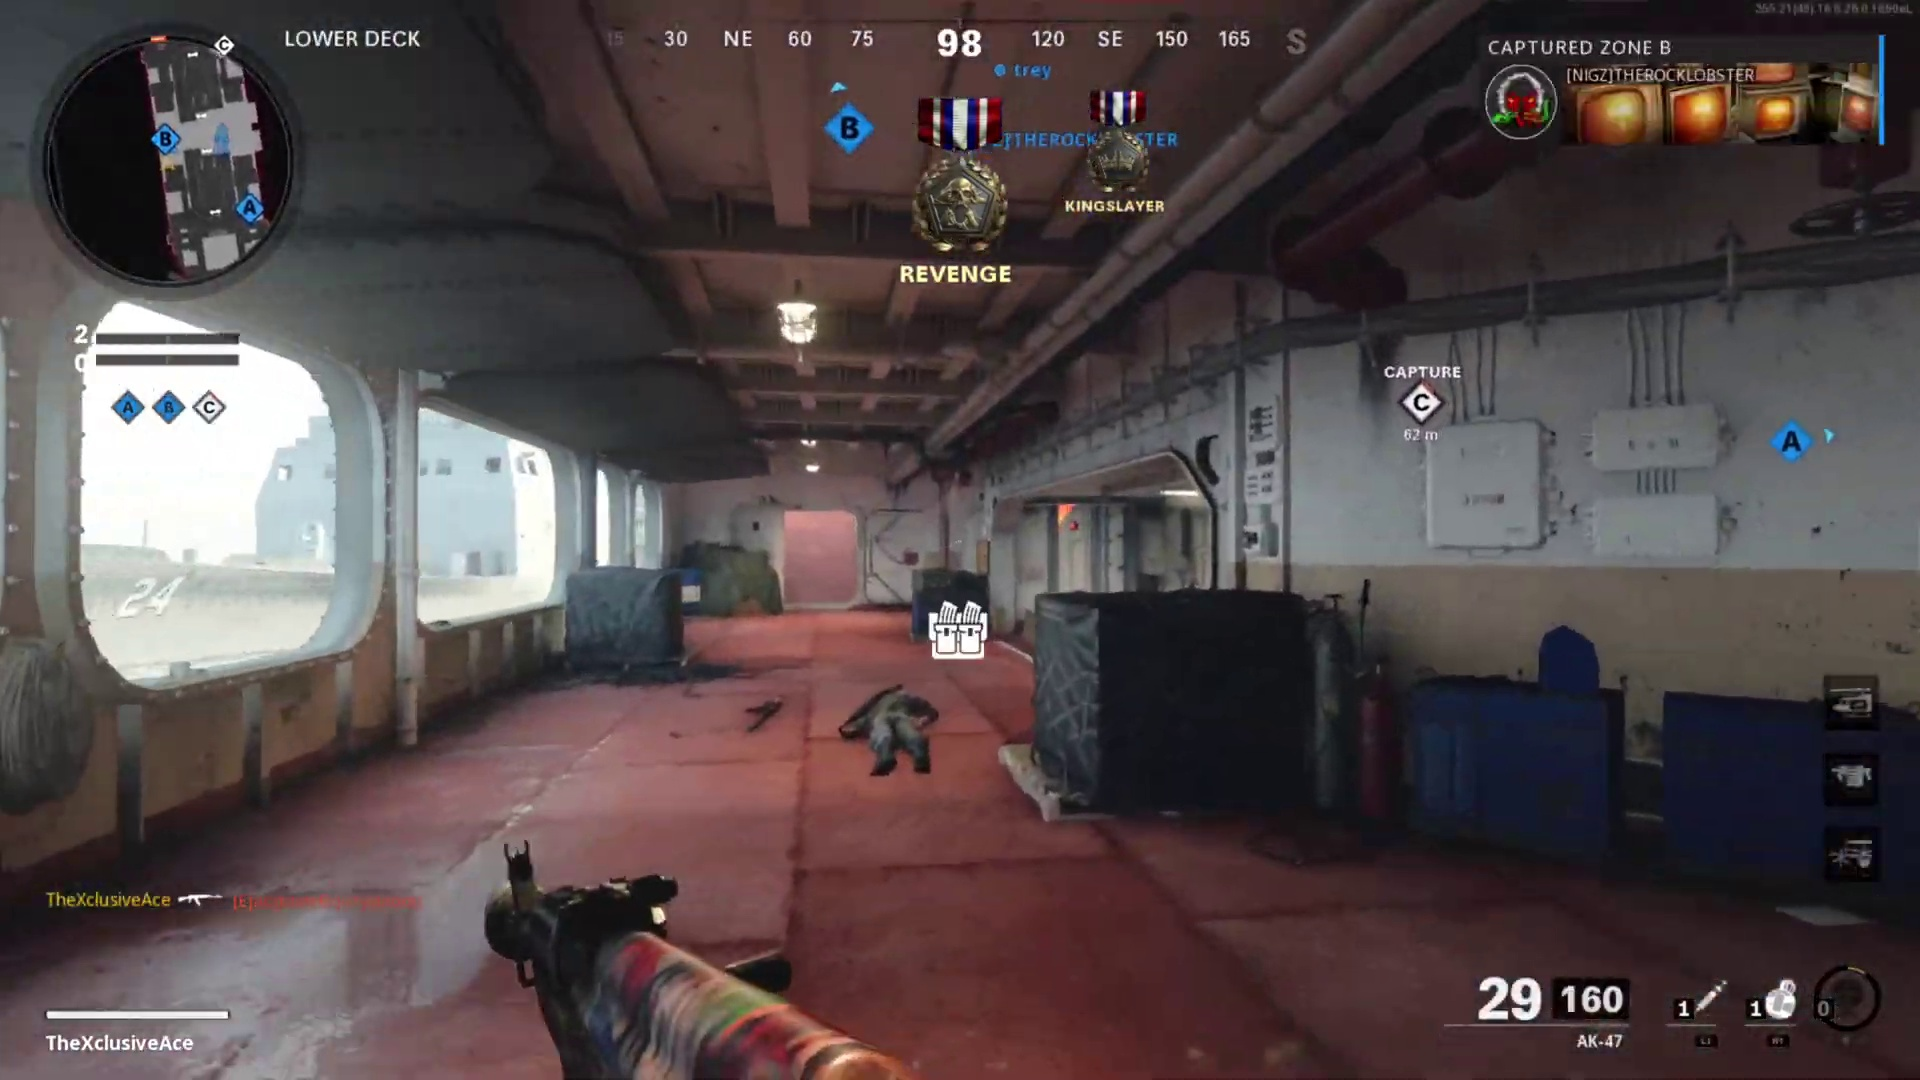person: (849, 682, 934, 776)
